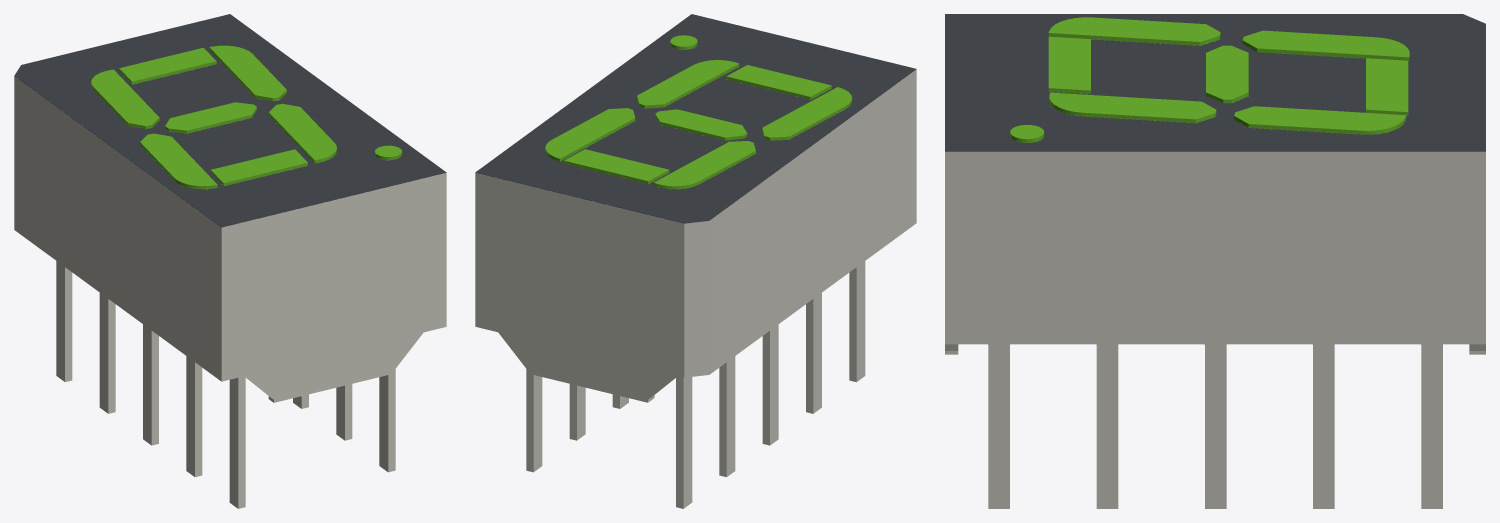
File: kc-hdsp-7801.glb
The picture shows the model from 3 angles, left to right: view 1: azimuth 30°, elevation 25°; view 2: azimuth 150°, elevation 25°; view 3: azimuth 270°, elevation 25°; orthographic projection. The views are drawn at different scales.
Visible parts, largest first — view 1: 0.6666666666666666_0.6666666666666666_0.5833333333333334_0.8, 0.08333333333333333_0.08333333333333333_0.08333333333333333_, 0.16666666666666666_0.4166666666666667_0_0; view 2: 0.6666666666666666_0.6666666666666666_0.5833333333333334_0.8, 0.08333333333333333_0.08333333333333333_0.08333333333333333_, 0.16666666666666666_0.4166666666666667_0_0; view 3: 0.6666666666666666_0.6666666666666666_0.5833333333333334_0.8, 0.08333333333333333_0.08333333333333333_0.08333333333333333_, 0.16666666666666666_0.4166666666666667_0_0.
Boxes of the visible parts, bbox=[...] form: 0.6666666666666666_0.6666666666666666_0.5833333333333334_0.8: bbox=[14, 76, 446, 508]; 0.08333333333333333_0.08333333333333333_0.08333333333333333_: bbox=[14, 14, 446, 227]; 0.16666666666666666_0.4166666666666667_0_0: bbox=[91, 45, 402, 189]; 0.6666666666666666_0.6666666666666666_0.5833333333333334_0.8: bbox=[475, 69, 916, 508]; 0.08333333333333333_0.08333333333333333_0.08333333333333333_: bbox=[475, 14, 916, 223]; 0.16666666666666666_0.4166666666666667_0_0: bbox=[545, 35, 852, 189]; 0.6666666666666666_0.6666666666666666_0.5833333333333334_0.8: bbox=[945, 151, 1485, 508]; 0.08333333333333333_0.08333333333333333_0.08333333333333333_: bbox=[945, 14, 1485, 151]; 0.16666666666666666_0.4166666666666667_0_0: bbox=[1010, 17, 1409, 142].
Bounding box in the file's own units: 0.7621 × 0.99 × 1.27.
